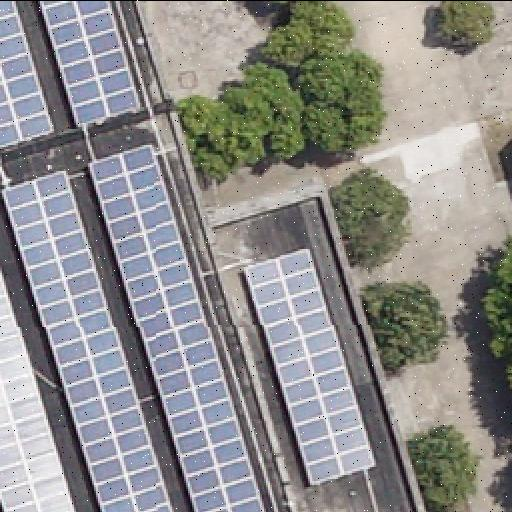solar-panel: (87, 144, 265, 512), (0, 166, 172, 512), (245, 248, 371, 484), (0, 272, 72, 512), (38, 1, 142, 127), (0, 0, 56, 148)
